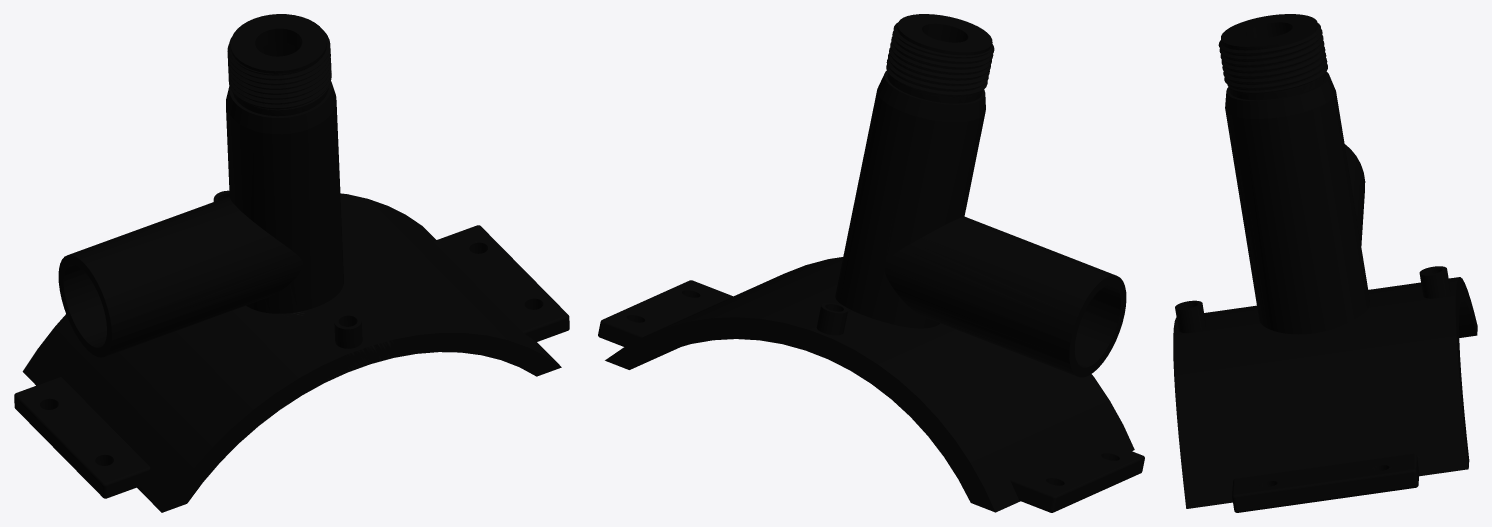
Rendered from седло ЭСФ.glb.
3 views of the same model, side by side, from view 1: azimuth 30°, elevation 25°; view 2: azimuth 150°, elevation 25°; view 3: azimuth 270°, elevation 25° (orthographic).
Parts seen in each view (by area): view 1: node_id3; view 2: node_id3; view 3: node_id3.
Part boxes in pixels (x1,y1,x2,y2): node_id3: (14, 14, 569, 512); node_id3: (598, 14, 1144, 512); node_id3: (1173, 14, 1477, 512).
Size of the model in its own units: 0.5096 by 0.4364 by 0.2865.
1 material, 1 textured.
